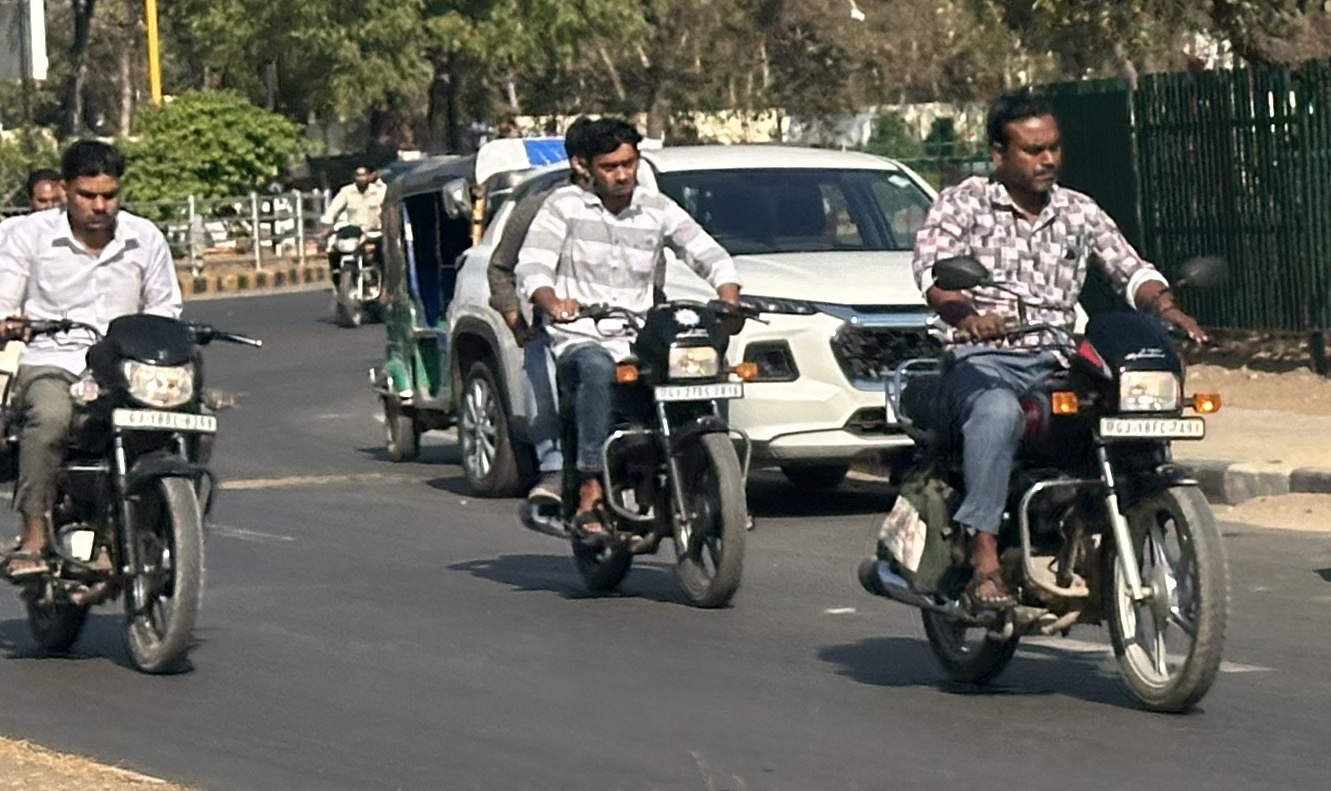BikeWithRider: (854, 93, 1244, 699), (0, 142, 271, 668), (475, 116, 769, 597), (312, 152, 405, 331)
NoHelmet: (985, 95, 1064, 197), (60, 139, 132, 229), (580, 118, 653, 200), (559, 113, 606, 187)
